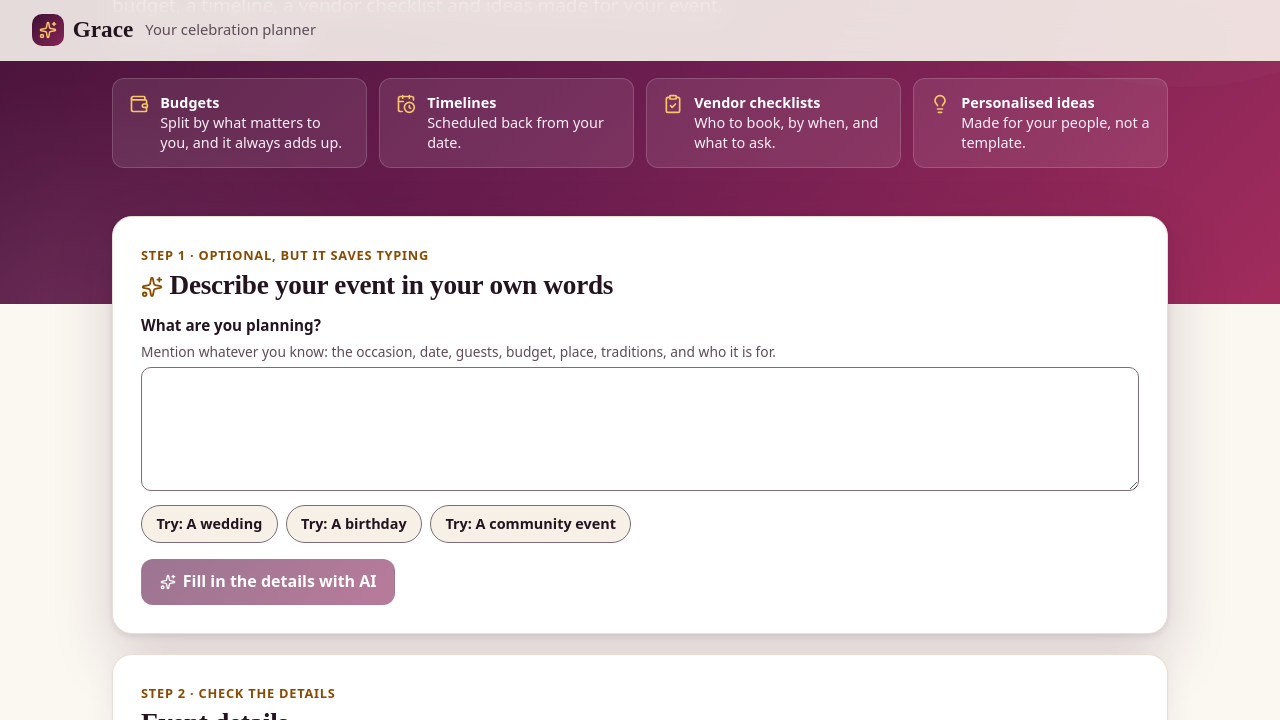
it: home › fills the form from a description, showing the source and what it assumed
(page scrolled)
In the text box labelled "What are you planning?": (640, 429) [141,367,1139,491], type "Priya turns 30"
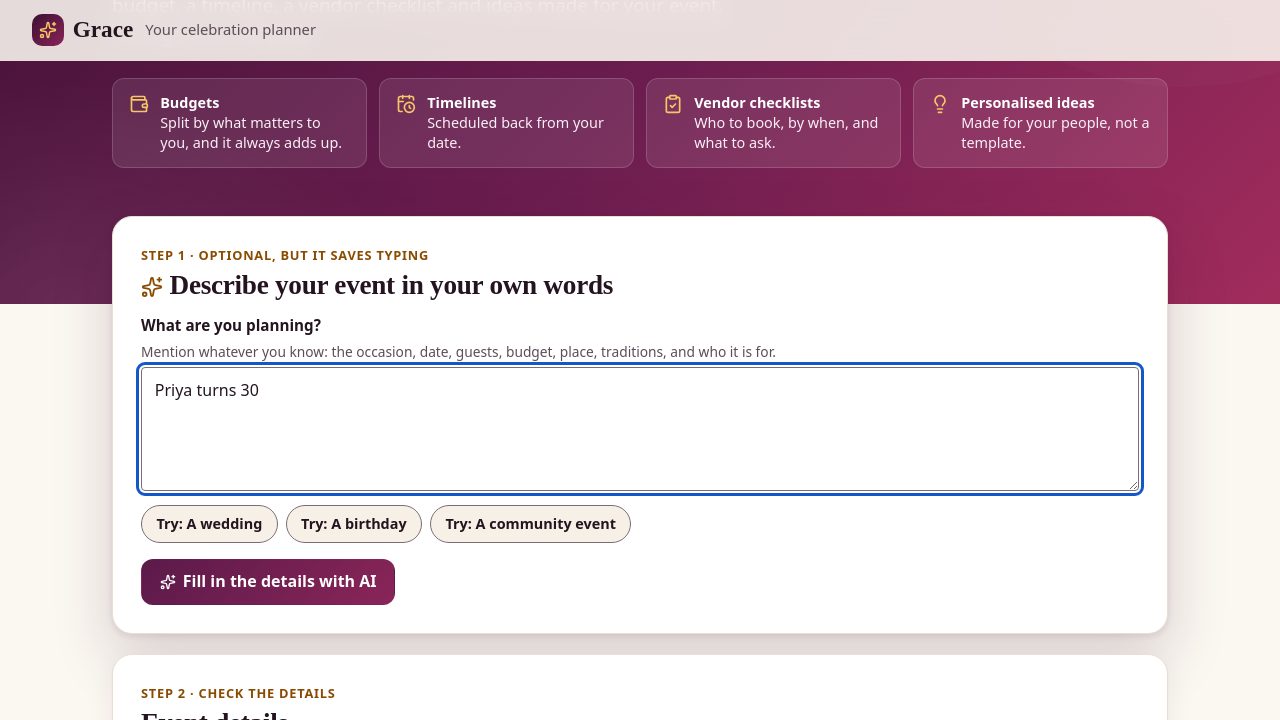
Click the button "Fill in the details with AI": (268, 582) [141,559,395,605]
(page scrolled)
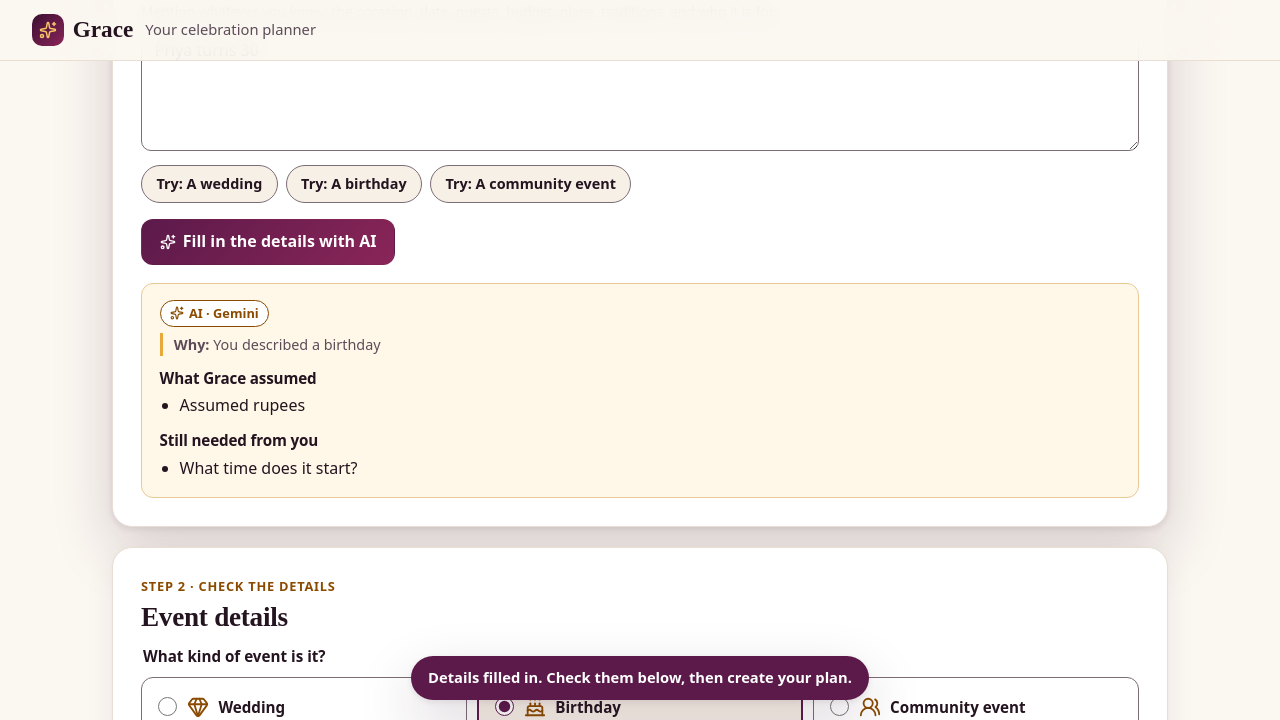
Expected: the element with test id "ai-source" reads "AI · Gemini", [189,304,259,322]
Expected: the list item "Assumed rupees" is shown, [180,394,305,416]
Expected: the list item "What time does it start?" is shown, [180,457,358,479]
